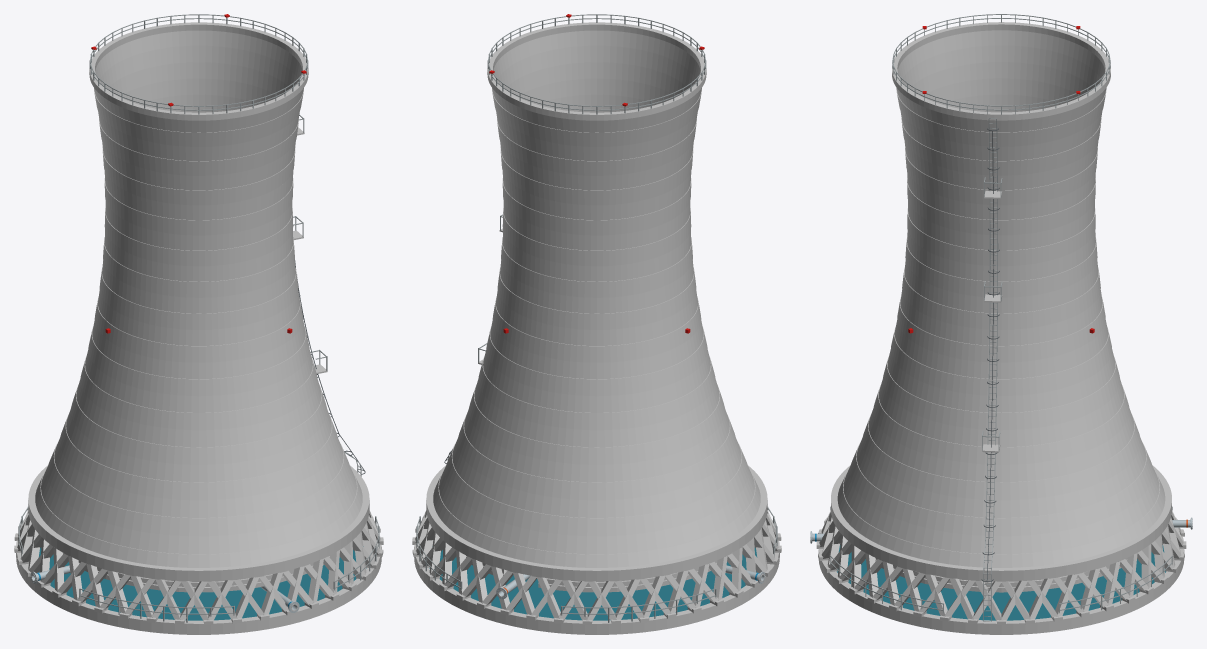
The model's file is body.obj.
3 renders of one model, left to right at view 1: azimuth 30°, elevation 25°; view 2: azimuth 150°, elevation 25°; view 3: azimuth 270°, elevation 25°, orthographic.
Bounding box in the file's own units: 24.58 × 35.93 × 25.
